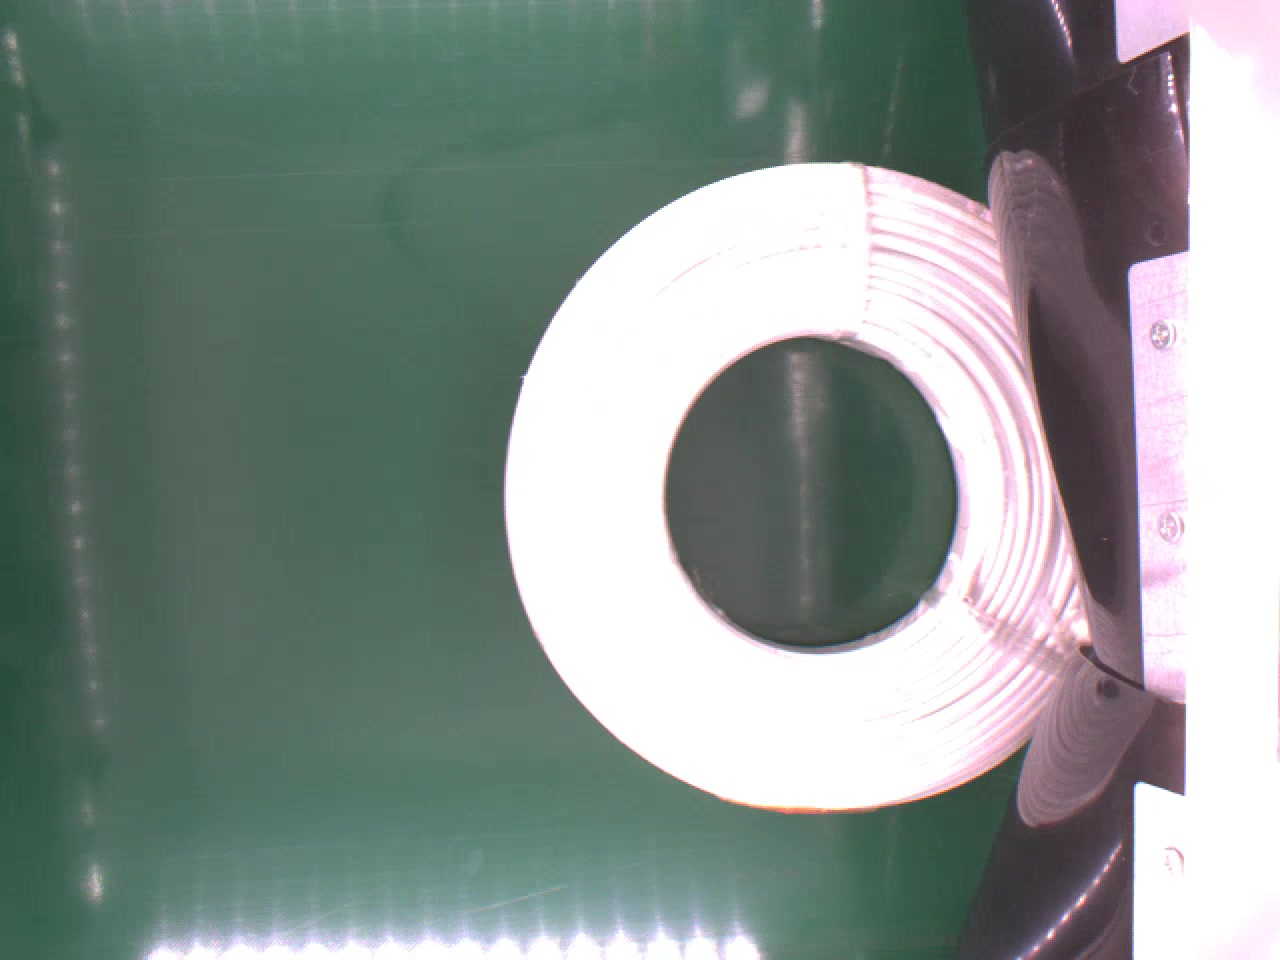white: (503, 159, 1102, 820)
